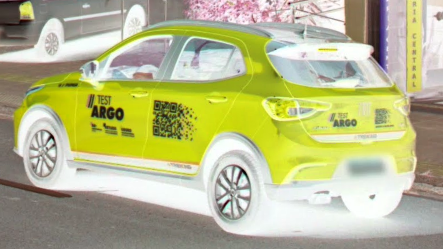car: (13, 21, 418, 232)
